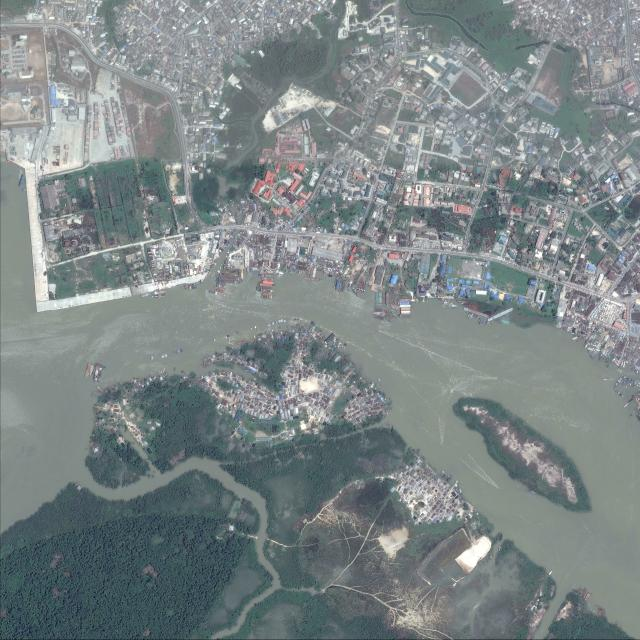large-vehicle: (188, 167, 190, 172), (191, 172, 196, 173)
ship: (487, 307, 515, 322), (462, 307, 490, 319), (221, 275, 240, 282), (384, 309, 394, 321), (93, 366, 100, 383), (488, 308, 498, 319), (384, 315, 394, 326), (97, 367, 103, 383), (391, 298, 399, 310), (85, 363, 91, 379), (373, 314, 386, 321), (390, 308, 398, 319), (95, 362, 106, 369), (587, 350, 596, 358), (214, 291, 226, 297), (388, 309, 395, 319), (152, 293, 165, 298), (154, 290, 167, 295), (258, 274, 274, 278), (390, 303, 397, 312), (583, 338, 589, 348), (375, 292, 380, 304), (335, 281, 340, 293), (214, 286, 226, 291), (375, 305, 387, 310), (340, 281, 346, 291), (228, 280, 240, 285), (216, 284, 227, 289), (89, 365, 94, 376), (261, 277, 274, 281), (456, 300, 468, 304), (263, 289, 275, 293), (260, 295, 272, 299), (140, 293, 152, 297), (373, 311, 385, 315), (260, 283, 272, 287), (379, 292, 383, 303), (613, 361, 620, 367), (485, 320, 495, 324), (627, 398, 635, 403), (262, 286, 272, 290), (216, 279, 226, 283), (216, 281, 226, 285), (92, 365, 96, 375), (601, 359, 607, 365), (259, 272, 271, 275), (499, 533, 503, 542), (610, 357, 616, 363), (479, 318, 488, 322), (480, 311, 492, 314), (386, 292, 389, 304), (373, 309, 385, 312), (263, 281, 274, 284), (389, 293, 392, 304), (466, 311, 474, 315), (571, 336, 579, 340), (465, 316, 473, 320), (216, 289, 224, 293), (597, 352, 603, 357), (548, 570, 553, 576), (623, 403, 629, 408), (383, 294, 386, 304), (241, 270, 244, 279), (465, 306, 474, 309), (226, 201, 231, 206), (605, 359, 610, 364), (209, 290, 215, 294), (223, 179, 227, 185), (347, 283, 350, 291), (230, 270, 238, 273), (238, 269, 241, 277), (376, 303, 384, 306), (222, 273, 230, 276), (232, 205, 238, 209), (277, 273, 283, 277), (261, 293, 272, 295), (478, 321, 485, 324), (478, 320, 485, 323), (468, 315, 473, 319), (635, 370, 639, 375), (589, 355, 594, 359), (606, 364, 610, 369), (448, 305, 458, 307), (6, 159, 11, 163), (622, 363, 626, 368), (233, 213, 236, 219), (221, 200, 224, 206), (238, 206, 241, 212), (215, 275, 221, 278), (479, 319, 485, 322), (530, 491, 536, 494), (468, 314, 474, 317), (358, 287, 361, 293), (604, 359, 608, 363), (595, 351, 599, 355), (596, 348, 600, 352), (592, 349, 596, 353), (593, 350, 597, 354), (594, 351, 598, 355), (221, 271, 229, 273), (219, 196, 223, 200), (218, 195, 222, 199), (192, 287, 197, 290), (498, 545, 501, 550), (478, 322, 483, 325), (192, 285, 197, 288), (223, 184, 228, 187), (219, 271, 222, 276), (577, 336, 580, 340), (498, 547, 501, 551), (278, 272, 284, 274), (269, 269, 272, 273), (452, 308, 458, 310), (476, 315, 480, 318), (632, 394, 635, 398), (591, 349, 594, 353), (192, 283, 196, 286), (363, 288, 366, 292), (276, 275, 281, 277), (235, 212, 237, 217), (352, 285, 354, 290), (257, 281, 262, 283), (357, 286, 359, 291), (362, 288, 364, 293), (360, 288, 362, 293), (574, 338, 577, 341), (623, 361, 626, 364), (218, 271, 221, 274), (629, 383, 632, 386), (590, 349, 593, 352), (590, 348, 593, 351), (589, 348, 592, 351), (588, 347, 591, 350), (416, 299, 419, 302), (334, 337, 337, 340), (234, 275, 238, 277), (604, 379, 608, 381), (444, 302, 448, 304), (450, 302, 454, 304), (576, 339, 580, 341), (217, 277, 221, 279), (276, 270, 278, 273), (273, 285, 276, 287), (588, 347, 590, 350), (338, 345, 340, 348), (218, 270, 220, 273), (637, 384, 639, 387), (631, 395, 633, 398), (588, 343, 590, 346), (458, 303, 464, 304), (218, 256, 220, 259), (361, 293, 363, 296), (236, 219, 237, 224), (573, 336, 578, 337), (237, 220, 238, 225), (587, 343, 589, 345), (330, 344, 332, 346), (340, 343, 342, 345), (338, 342, 340, 344), (334, 339, 336, 341), (217, 270, 219, 272), (632, 396, 634, 398), (217, 205, 219, 206), (344, 346, 345, 348), (334, 341, 336, 342)
storage-tank: (64, 249, 71, 254), (72, 241, 77, 246), (64, 242, 69, 246)
